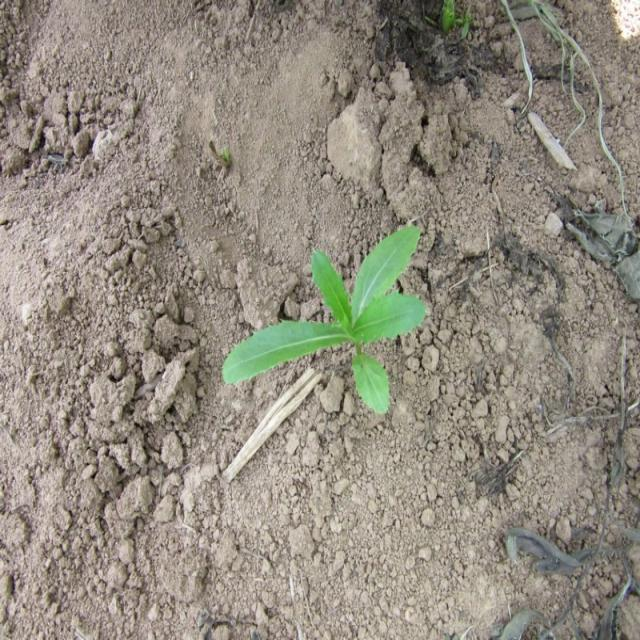cs: (220, 212, 431, 419)
